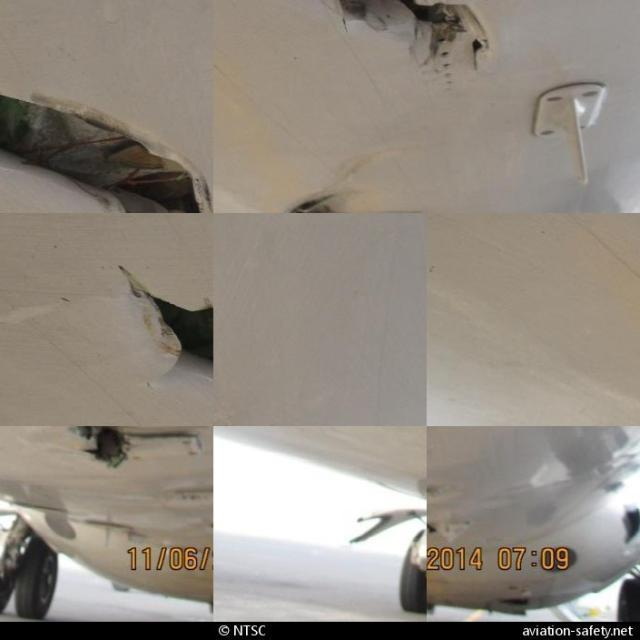crack: (114, 260, 214, 385)
